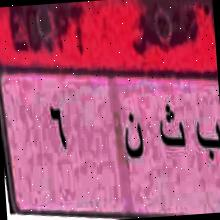6: (46, 97, 74, 160)
baa: (191, 109, 220, 167)
noon: (122, 108, 148, 170)
thaa: (155, 93, 188, 164)
